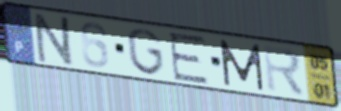6: (79, 20, 111, 70)
E: (166, 31, 211, 86)
G: (125, 27, 167, 78)
M: (218, 38, 267, 93)
N: (32, 11, 77, 69)
R: (261, 43, 307, 100)
